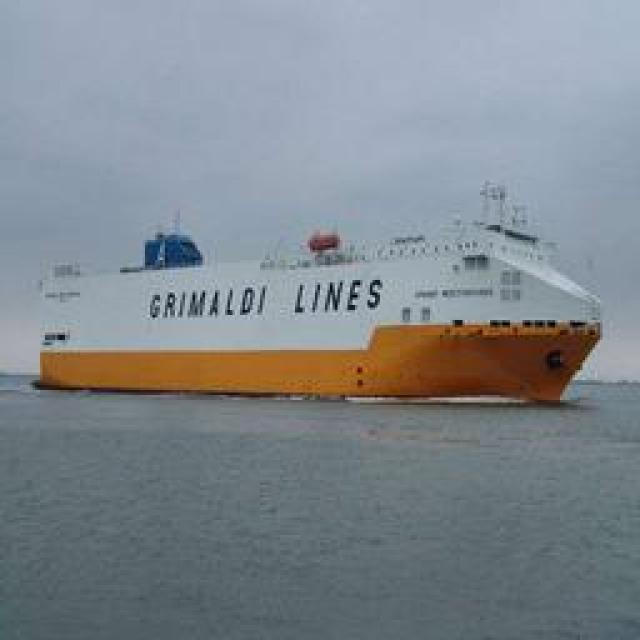CIV_Ship: (45, 180, 595, 398)
